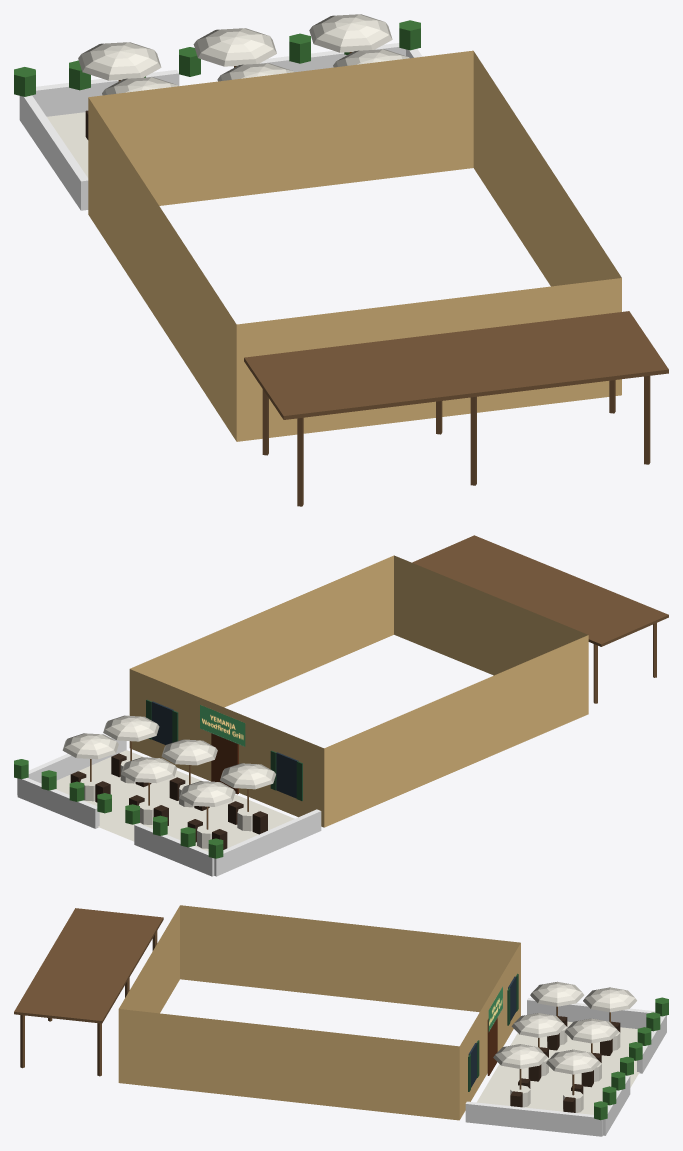
Rendered from yemanja.glb.
3 views of the same model, one above another, from view 1: azimuth 30°, elevation 25°; view 2: azimuth 150°, elevation 25°; view 3: azimuth 270°, elevation 25° (orthographic). The views are drawn at different scales.
Parts seen in each view (by area): view 1: yemanja_lod0; view 2: yemanja_lod0; view 3: yemanja_lod0.
Boxes of the visible parts, x1,y1,x2,y2 form: yemanja_lod0: (14, 14, 668, 506); yemanja_lod0: (14, 535, 668, 876); yemanja_lod0: (14, 905, 668, 1136).
Size of what is drawn, in the model's own units: 17.75 by 3.6 by 28.82.
Materials: 10 (2 with a texture image).
